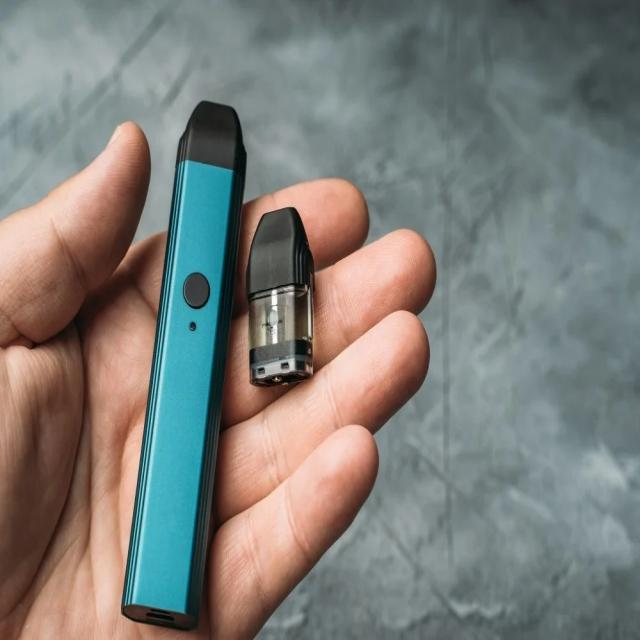Cigarette: (120, 105, 248, 632)
